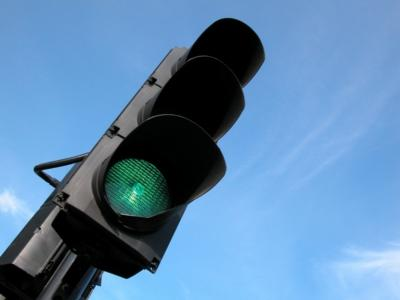trafficlight_green: (92, 96, 205, 248)
